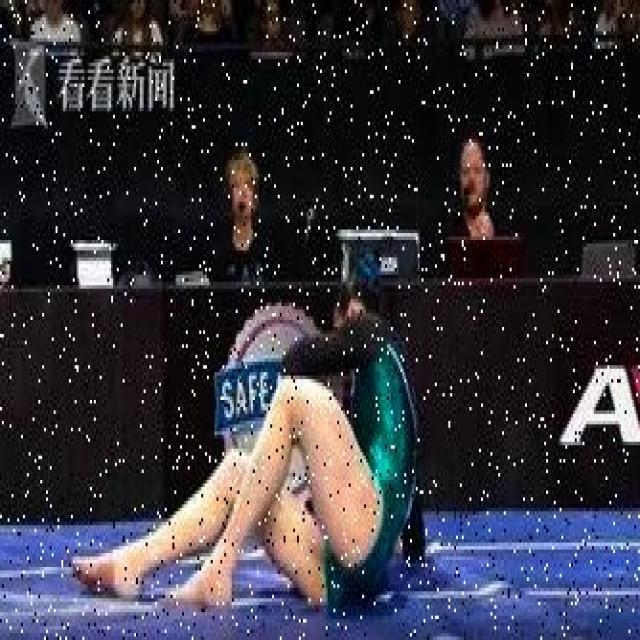fall: (73, 282, 437, 606)
